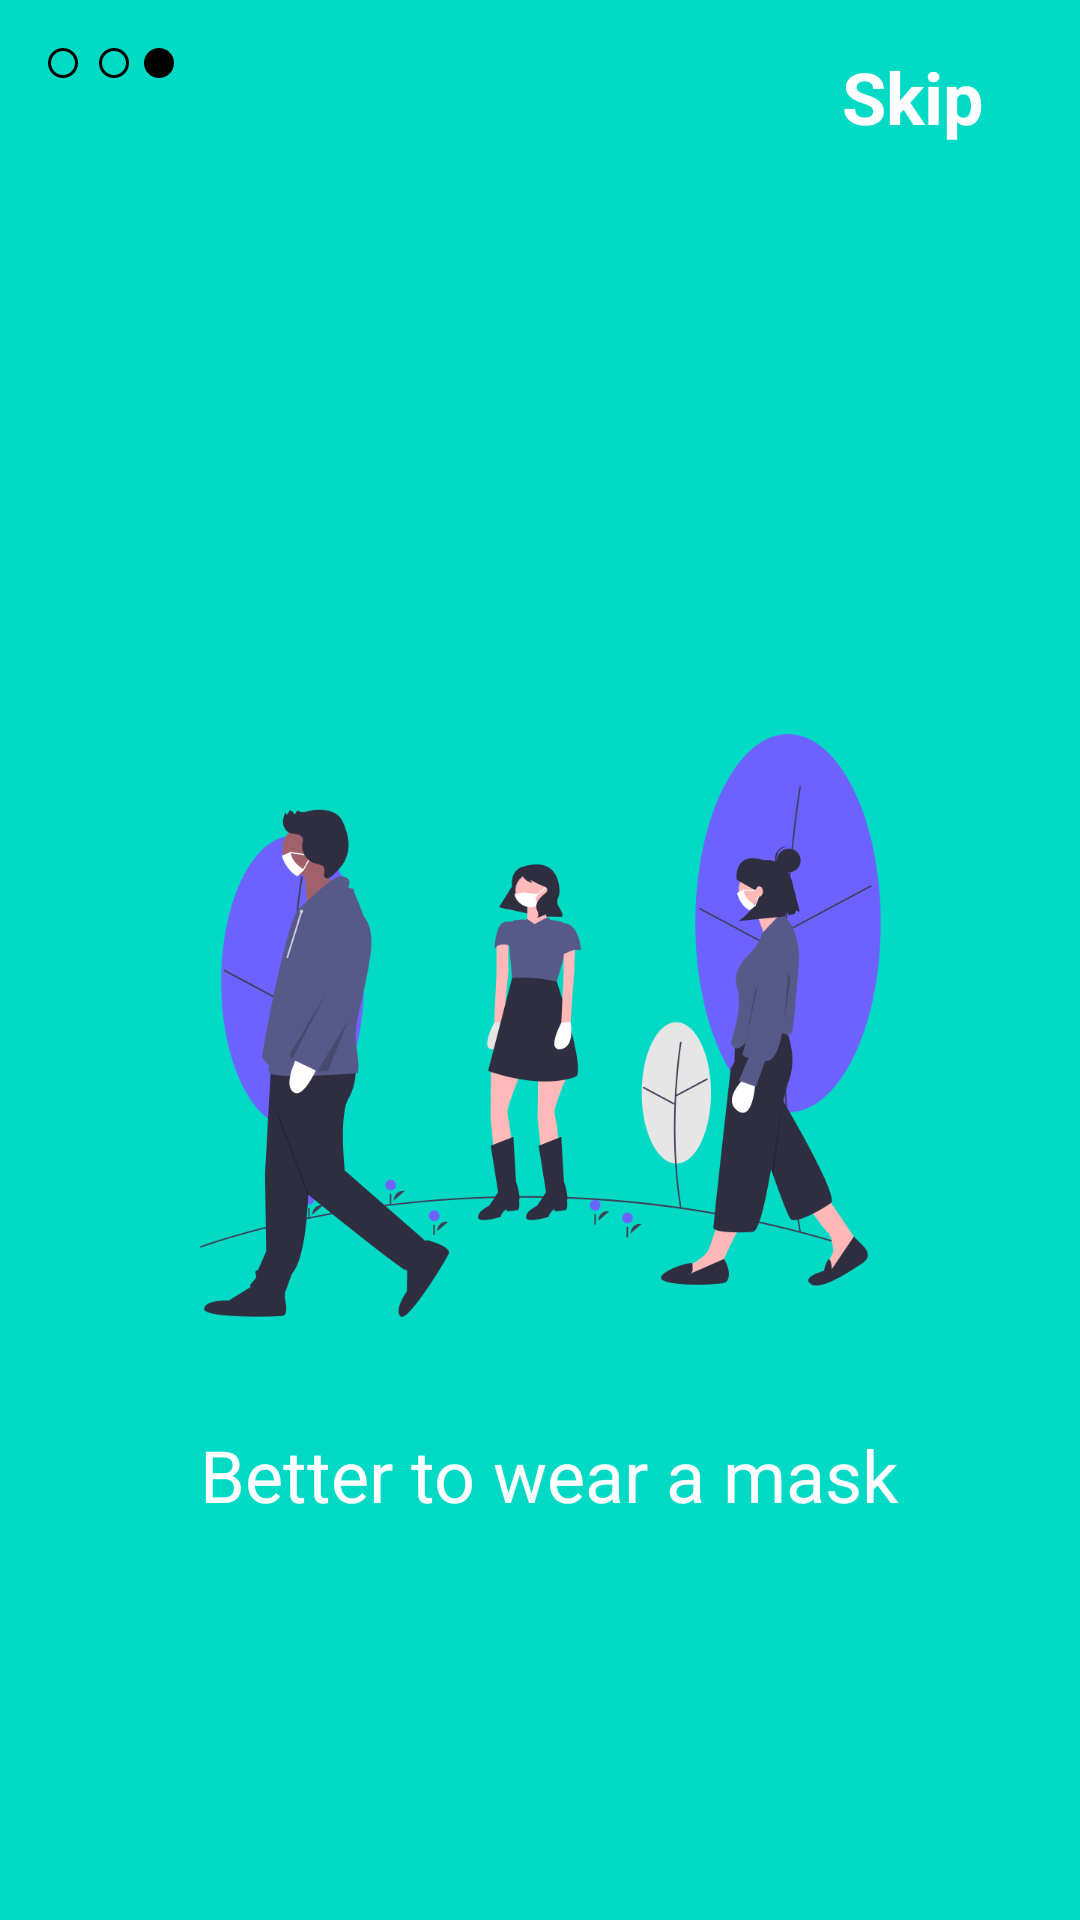

Named icons in this screenshot (1080x1920) and their bounding boxes, (x1, y1, x2, y2):
circle: (144, 48, 174, 78)
circle blank: (48, 48, 78, 78), (99, 48, 129, 78)
